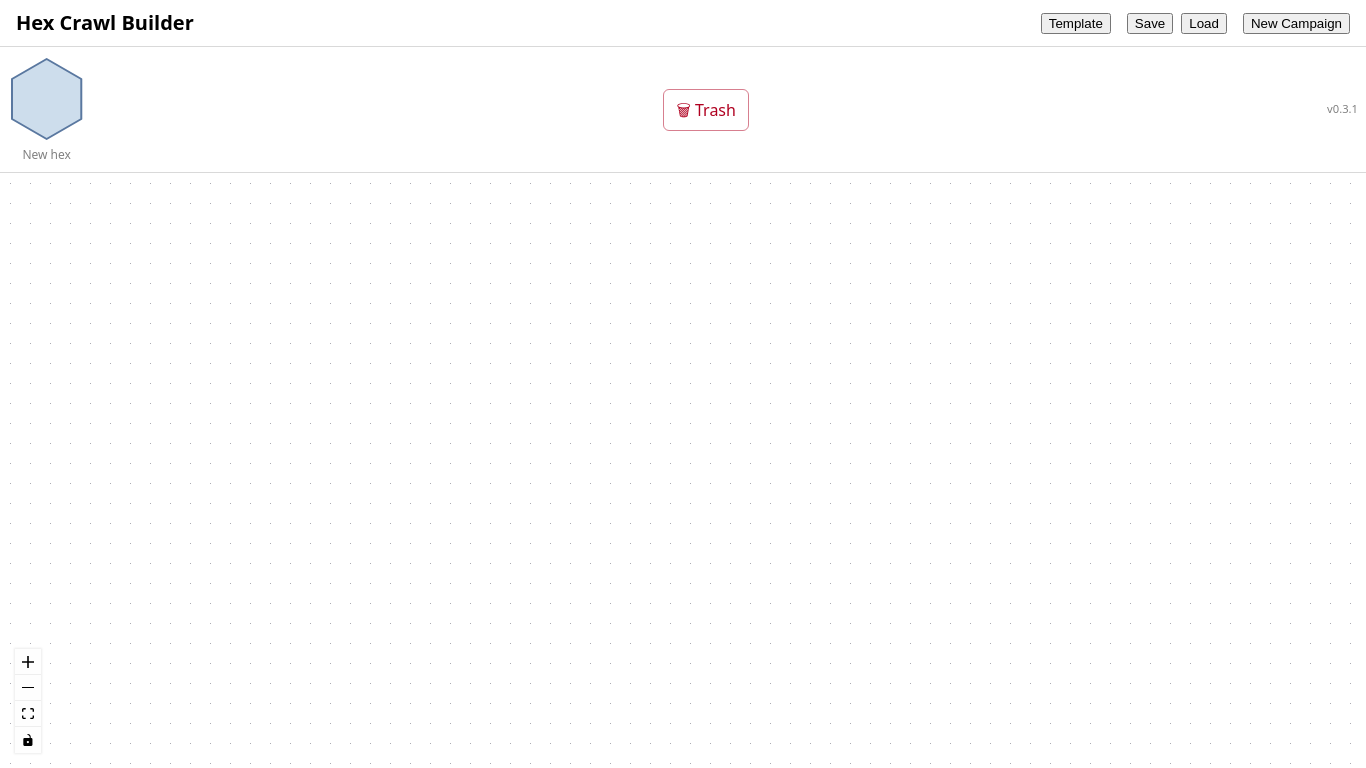
it: MapScreen › dismisses confirm dialog on Cancel
Click the button "New Campaign" at (1296, 23), box [1243,12,1350,34]
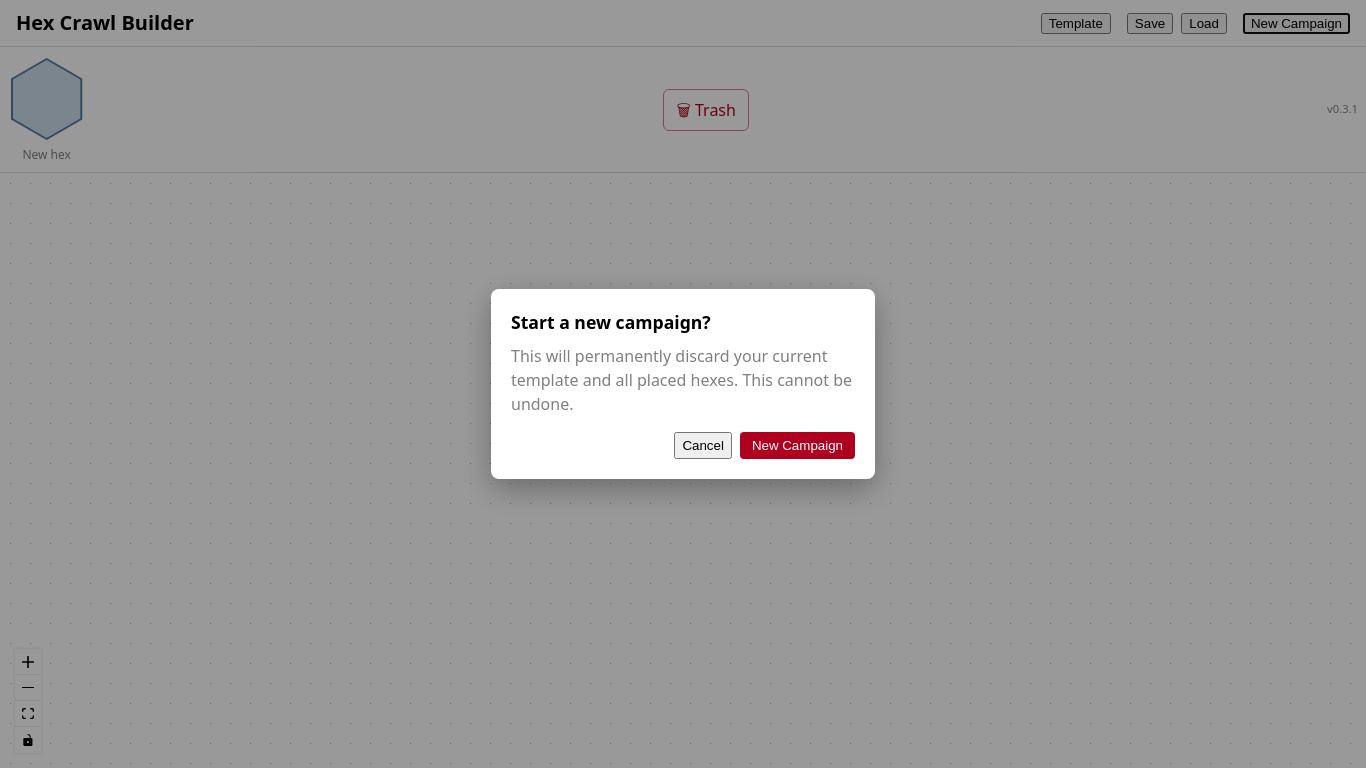
Click the button "Cancel" at (703, 445), box [674,432,732,459]
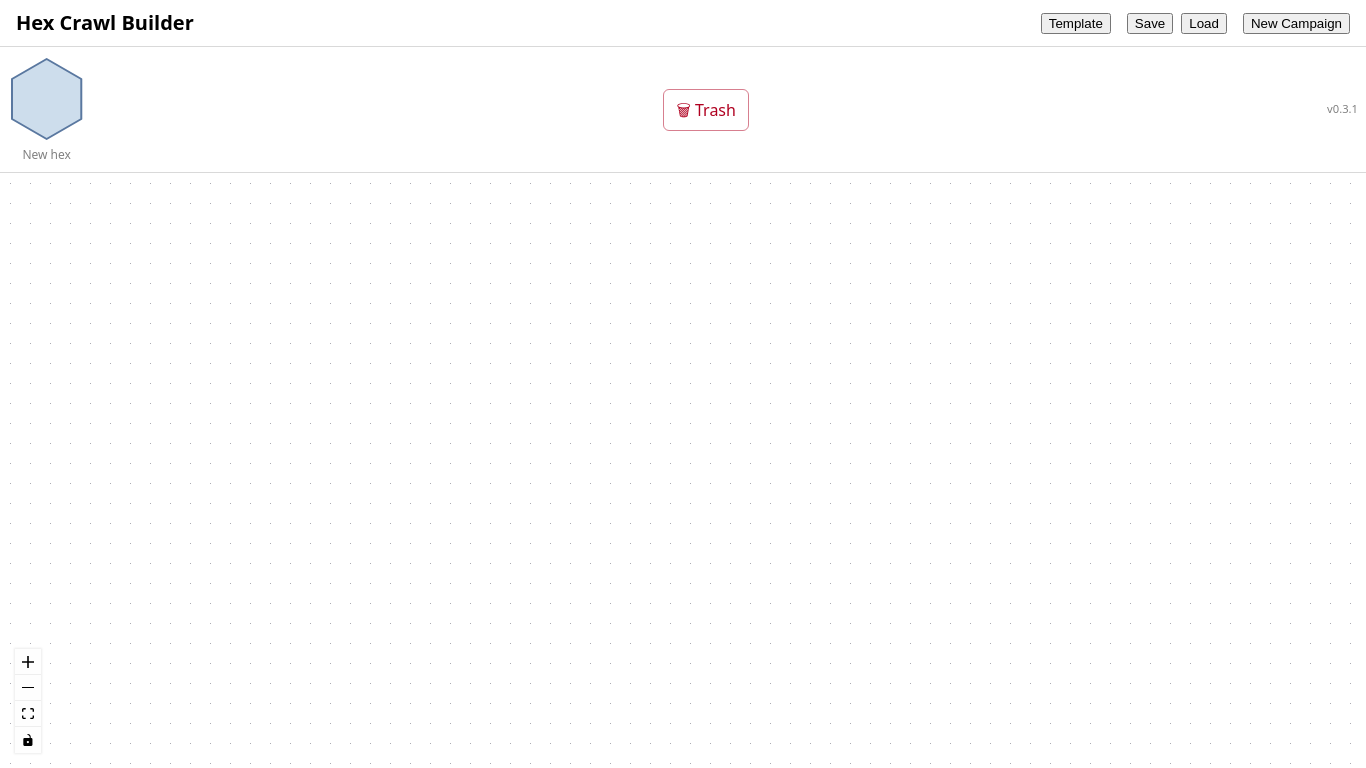
Result: the heading "Start a new campaign" is gone
